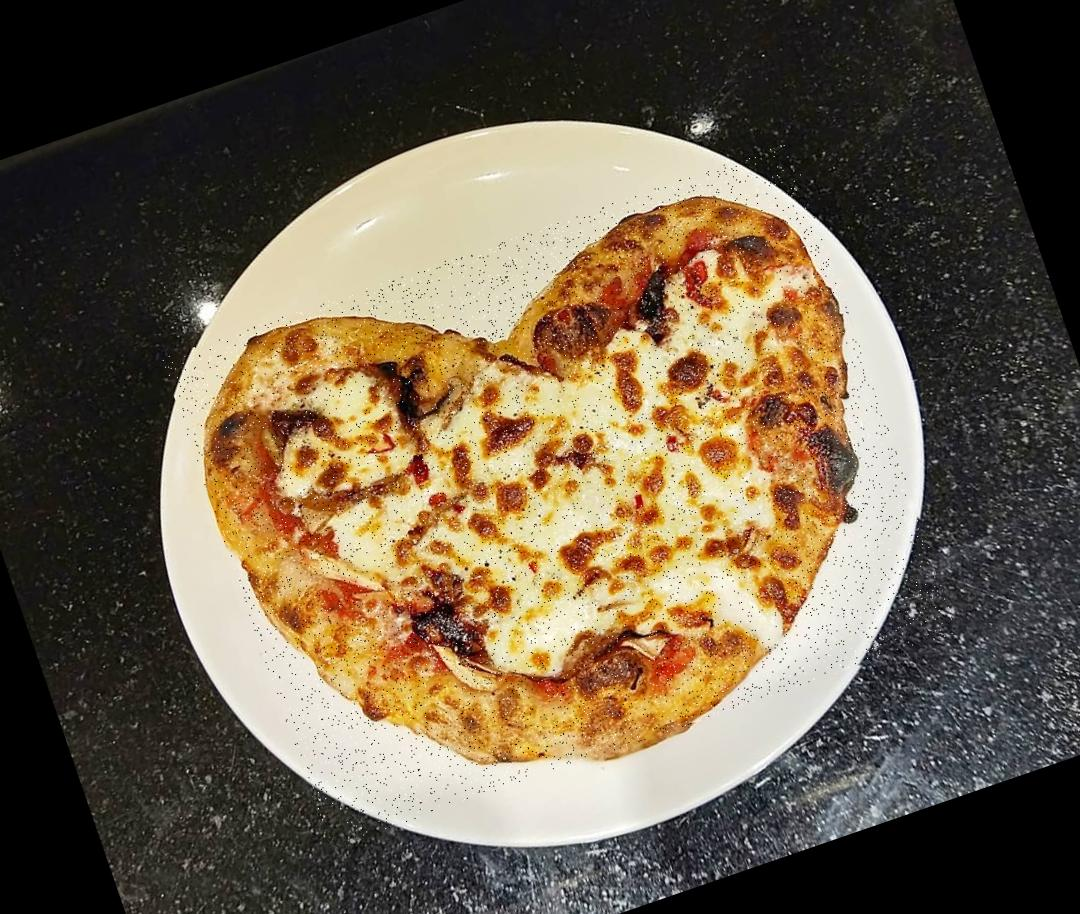Cheese: (301, 259, 815, 698)
Pizza: (163, 142, 960, 848)
